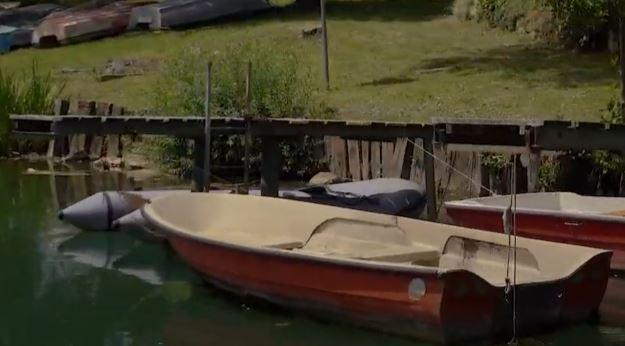Ship: (137, 189, 614, 330)
